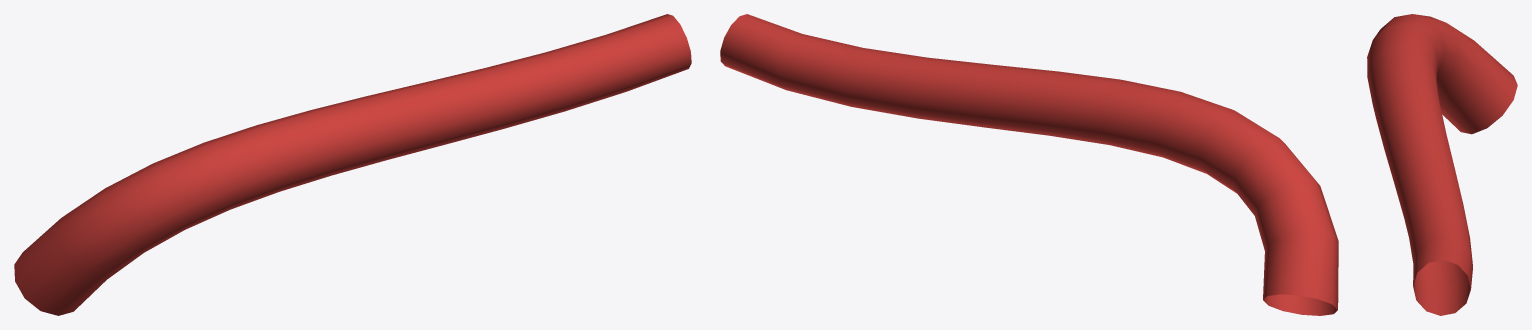
The picture shows the model from 3 angles, left to right: view 1: azimuth 30°, elevation 25°; view 2: azimuth 150°, elevation 25°; view 3: azimuth 270°, elevation 25°; orthographic projection. The views are drawn at different scales.
Visible parts, largest first — view 1: 右侧髂腰动脉脊支; view 2: 右侧髂腰动脉脊支; view 3: 右侧髂腰动脉脊支.
Boxes of the visible parts, x1,y1,x2,y2 form: 右侧髂腰动脉脊支: (14, 14, 691, 315); 右侧髂腰动脉脊支: (720, 14, 1338, 315); 右侧髂腰动脉脊支: (1367, 14, 1517, 315).
Bounding box in the file's own units: 0.0335 × 0.00827 × 0.00687.
